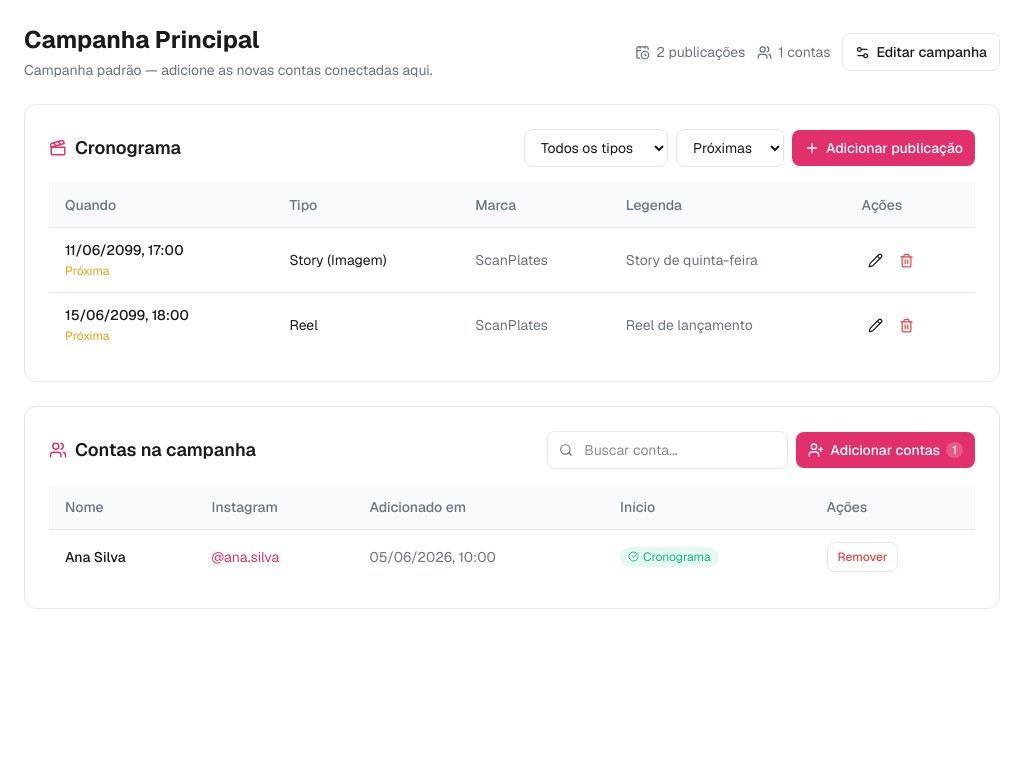
Scenario: AdminCampaign › filters the timeline by post type
Select "Reel" in the 1st dropdown named "tipo" at (596, 148), box [524,129,668,167]
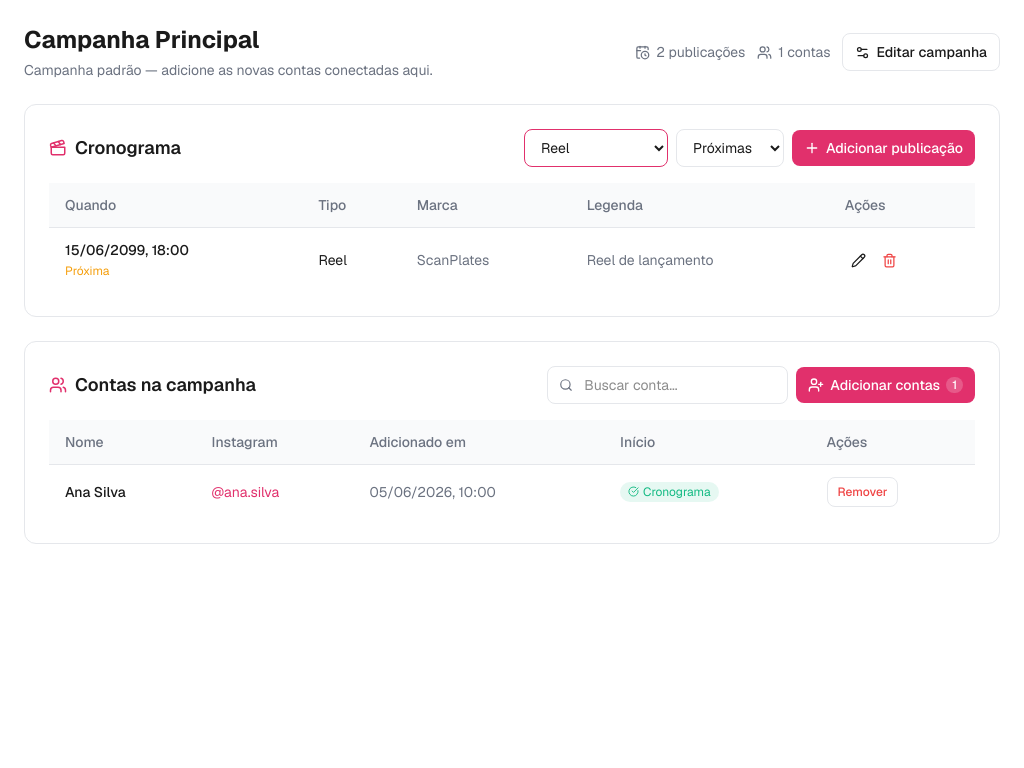
Check: the text "Reel de lançamento" is shown, box [571,228,829,292]
Check: the text "Story de quinta-feira" is gone
